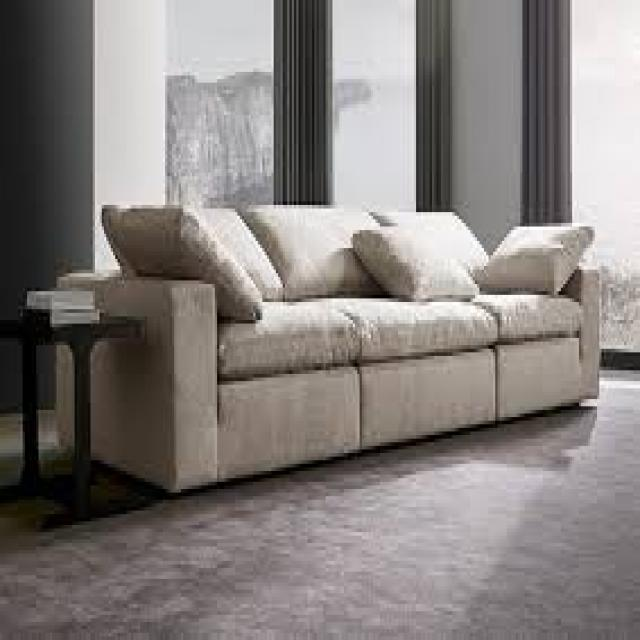Sofa: (18, 172, 621, 480)
